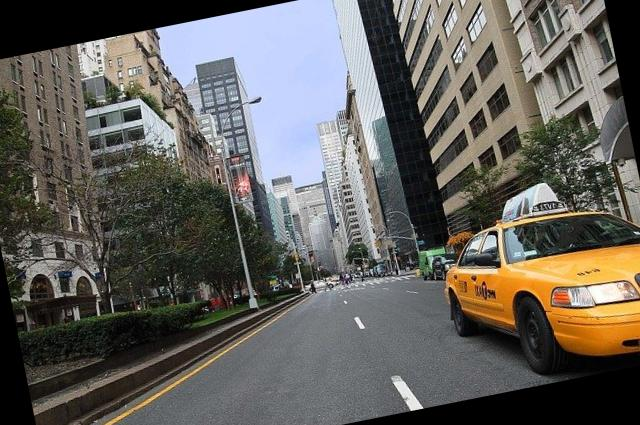taxi: (434, 206, 640, 374)
